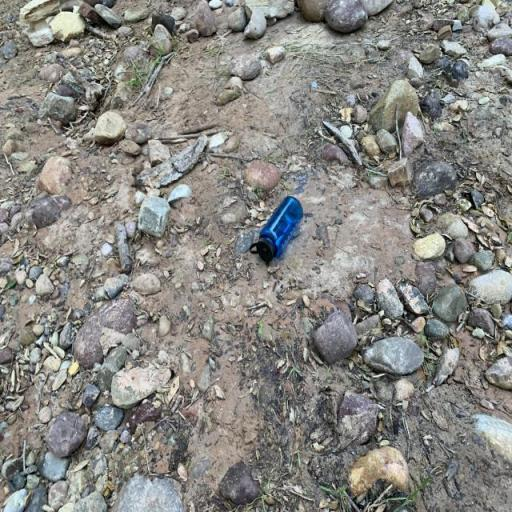bottle: (249, 196, 304, 262)
